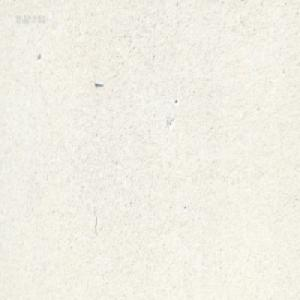Nail: (93, 80, 103, 86)
